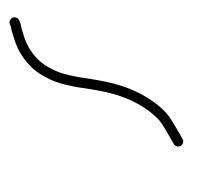b: (6, 14, 81, 104)
